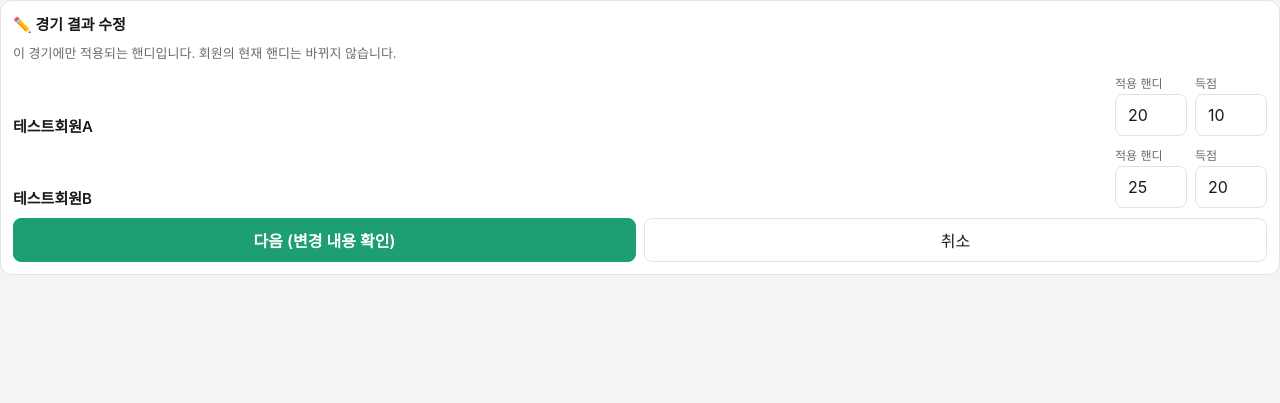
Test: CompletedGameEditor — 2단계: 변경 전/후 비교 › 비교 화면에 날짜·선수·핸디·점수·승자가 전 → 후로 표시된다
Replace the text in the number field named "테스트회원A 득점" with "19". click: (1231, 114)
box: [1195, 94, 1267, 136]
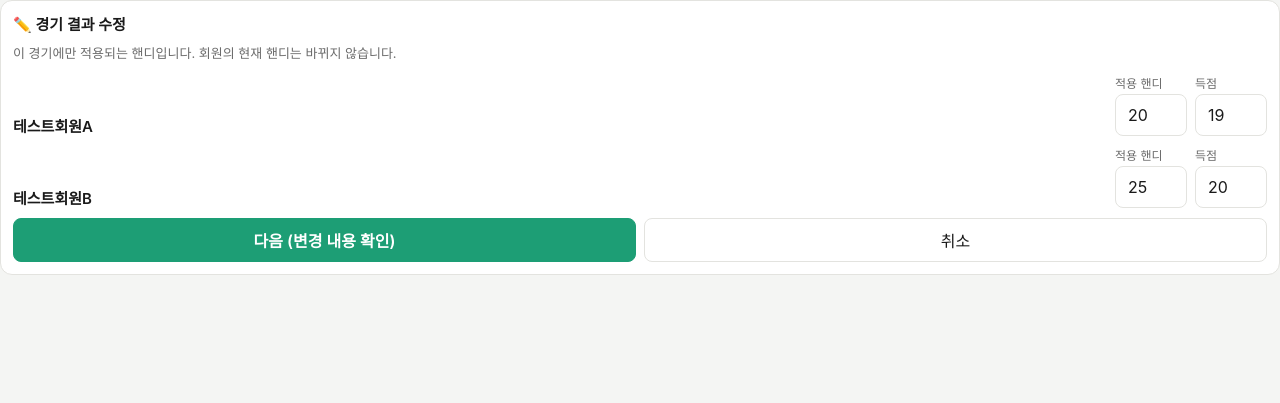
Click the button "다음 (변경 내용 확인)". click: click(324, 240)
box: [13, 218, 636, 262]
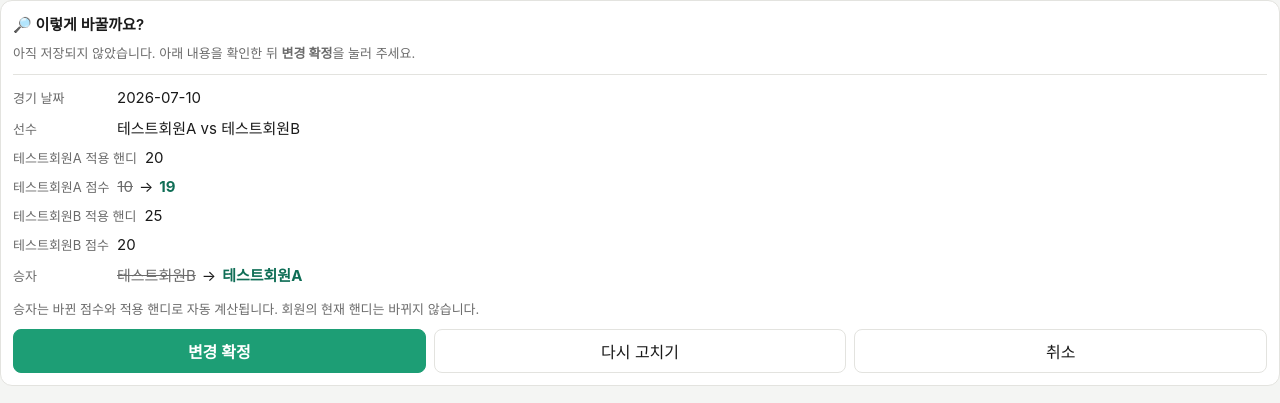
Expected: the text "🔎 이렇게 바꿀까요?" is shown, [13, 15, 144, 34]
Expected: the text "2026-07-10" is shown, [117, 88, 201, 106]
Expected: the text "테스트회원A vs 테스트회원B" is shown, [117, 116, 300, 138]
